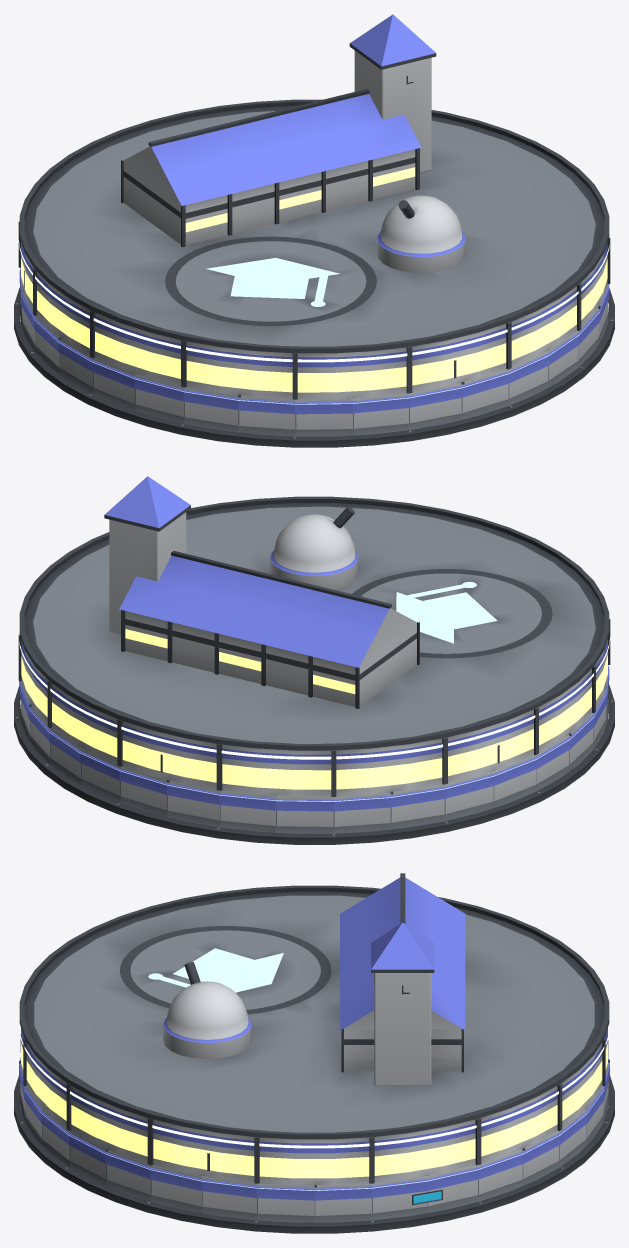
Rendered from academy_l.glb.
3 views of the same model, one above another, from view 1: azimuth 30°, elevation 25°; view 2: azimuth 150°, elevation 25°; view 3: azimuth 270°, elevation 25° (orthographic).
Visible parts, largest first — view 1: Roof, Base, Upper_21, Upper_22, Upper_20, Upper_19, Upper_23, Wall_20, Wall_21, Upper_18, Upper_24, Wall_22 (+17 smaller); view 2: Roof, Base, Upper_10, Upper_09, Upper_11, Upper_12, Upper_08, Wall_10, Wall_11, Upper_13, Upper_07, Wall_09 (+19 smaller); view 3: Roof, Base, Upper_00, Upper_31, Upper_01, Upper_30, Upper_02, Upper_29, Wall_00, Wall_31, PorchTop, Wall_30 (+19 smaller).
Part boxes in pixels (<box>): Roof: <box>19,14,609,353</box>; Base: <box>14,288,614,447</box>; Upper_21: <box>295,352,352,399</box>; Upper_22: <box>352,347,409,397</box>; Upper_20: <box>238,349,294,399</box>; Upper_19: <box>183,341,238,394</box>; Upper_23: <box>409,337,461,393</box>; Wall_20: <box>238,394,295,436</box>; Wall_21: <box>295,398,352,436</box>; Upper_18: <box>135,328,183,386</box>; Upper_24: <box>461,323,509,381</box>; Wall_22: <box>353,393,409,435</box>; Roof: <box>19,476,609,750</box>; Base: <box>14,685,614,844</box>; Upper_10: <box>276,749,333,796</box>; Upper_09: <box>219,744,276,794</box>; Upper_11: <box>334,746,390,796</box>; Upper_12: <box>390,738,445,791</box>; Upper_08: <box>167,734,219,790</box>; Wall_10: <box>276,795,333,833</box>; Wall_11: <box>333,792,390,833</box>; Upper_13: <box>445,725,493,783</box>; Upper_07: <box>119,720,167,779</box>; Wall_09: <box>219,790,275,832</box>; Roof: <box>19,873,609,1139</box>; Base: <box>14,1076,614,1233</box>; Upper_00: <box>314,1137,372,1185</box>; Upper_31: <box>256,1137,314,1185</box>; Upper_01: <box>372,1130,426,1183</box>; Upper_30: <box>202,1130,256,1183</box>; Upper_02: <box>426,1119,478,1175</box>; Upper_29: <box>150,1119,202,1175</box>; Wall_00: <box>314,1183,371,1222</box>; Wall_31: <box>257,1183,314,1222</box>; PorchTop: <box>18,973,610,1148</box>; Wall_30: <box>201,1175,256,1220</box>.
Bounding box in the file's own units: 18.96 × 8.5 × 18.96.
